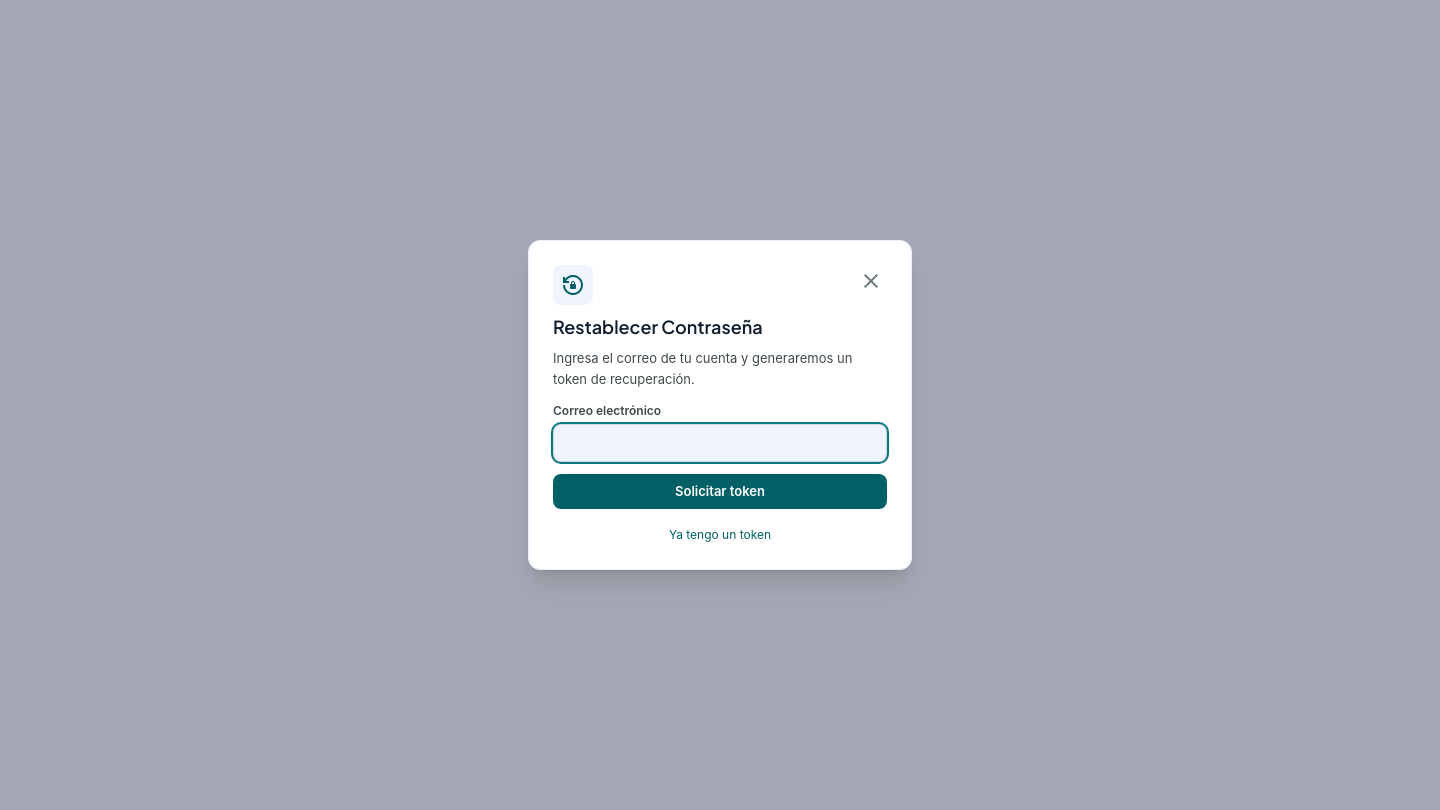
Test: PasswordRecoveryModal (HU-003) › muestra el error del backend cuando el token no es válido
The image size is (1440, 810).
Step 1. Click the button "Ya tengo un token" → {"x": 720, "y": 535}, box [553,526,887,544]
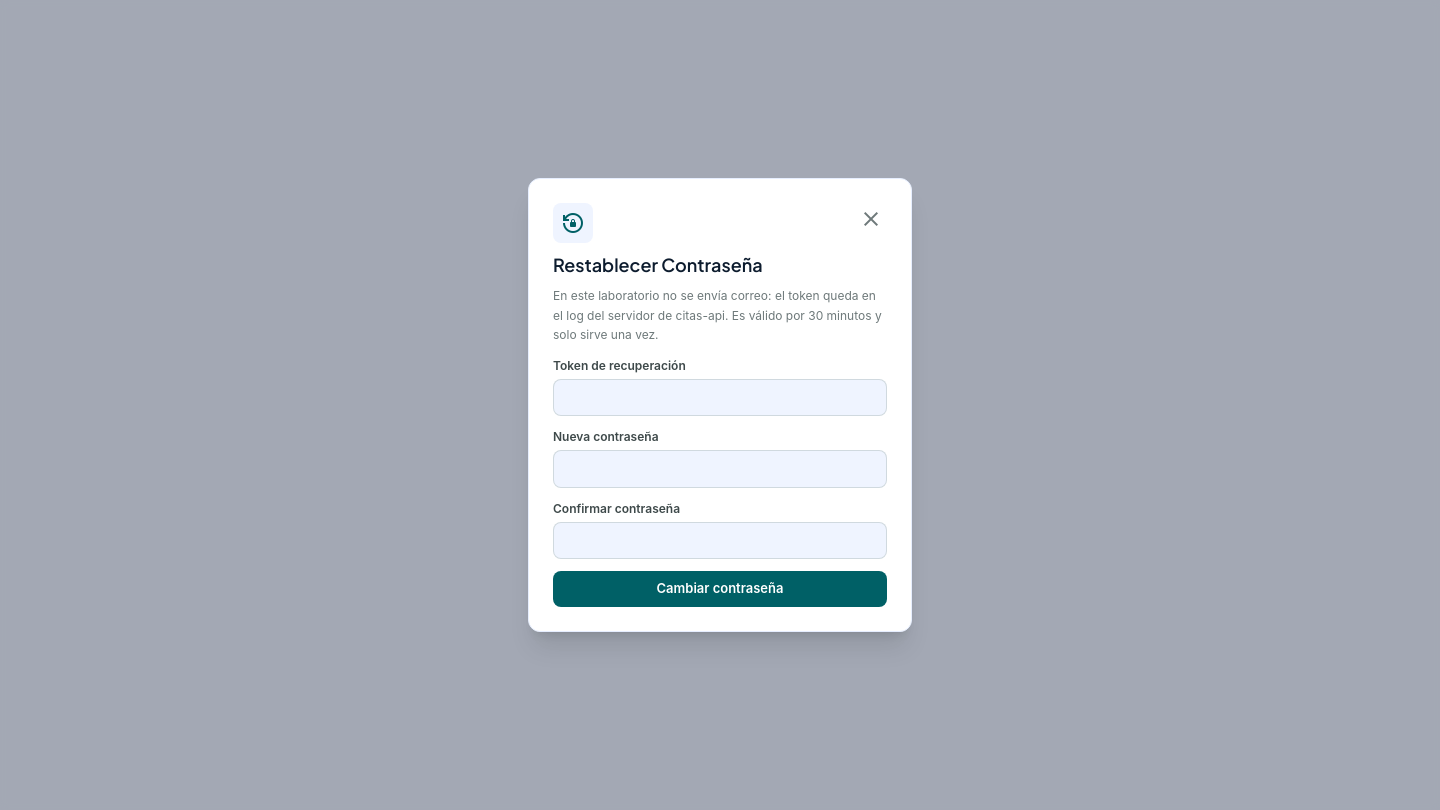
Step 2. Type "malo" into the field labelled "Token de recuperación" → {"x": 720, "y": 398}, box [553,379,887,416]
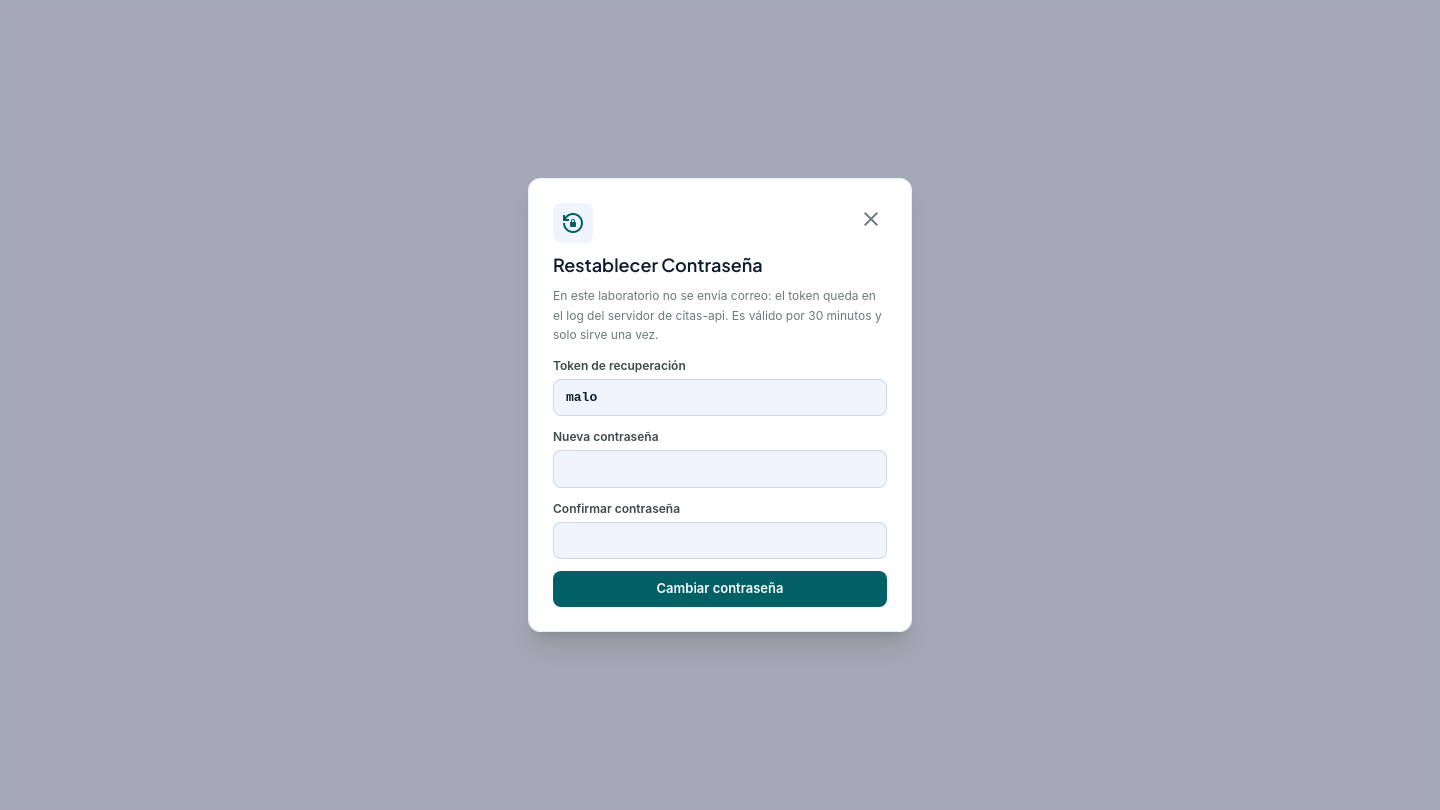
Step 3. Type "NuevaClave2026*" into the password field labelled "Nueva contraseña" → {"x": 720, "y": 469}, box [553,450,887,488]
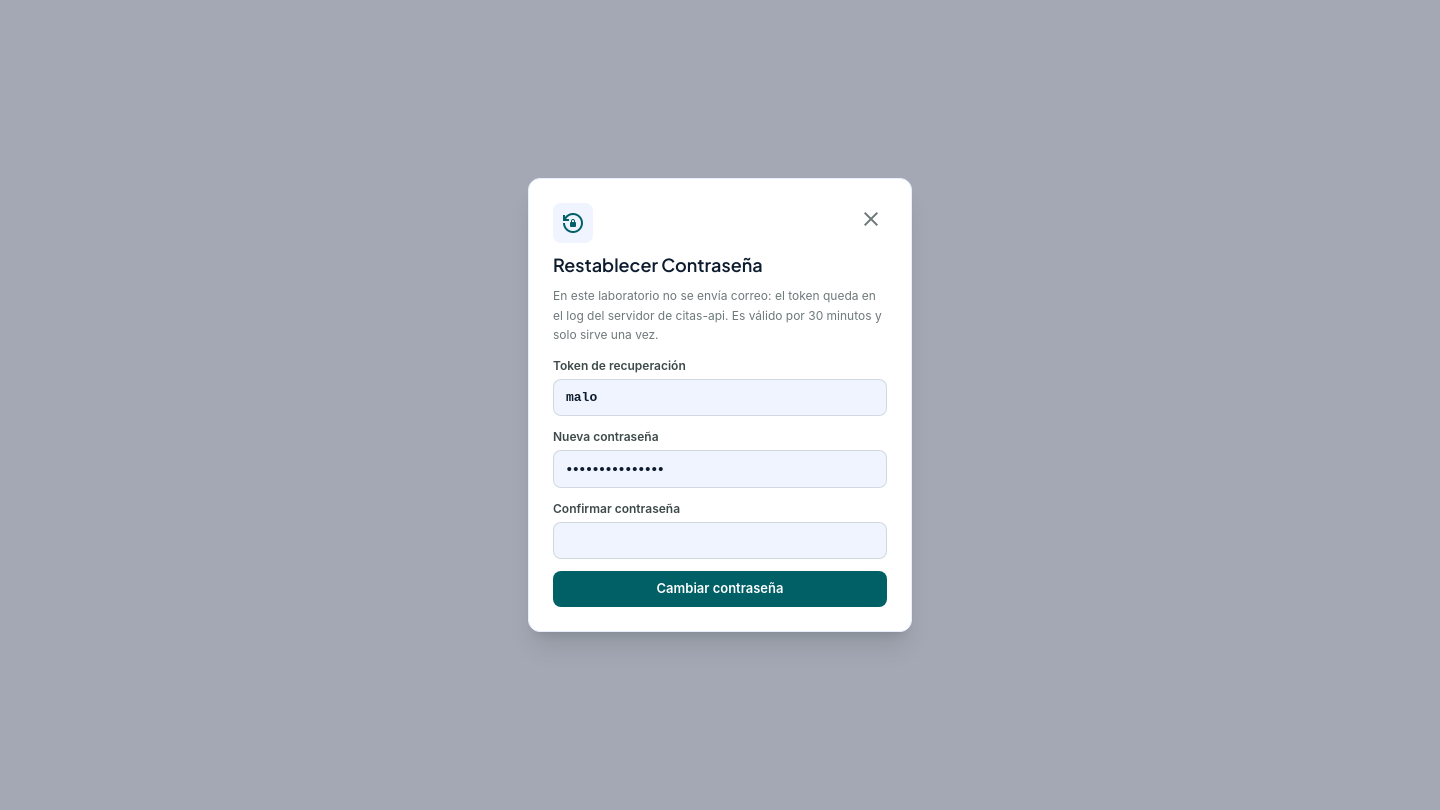
Step 4. Type "NuevaClave2026*" into the password field labelled "Confirmar contraseña" → {"x": 720, "y": 541}, box [553,522,887,559]
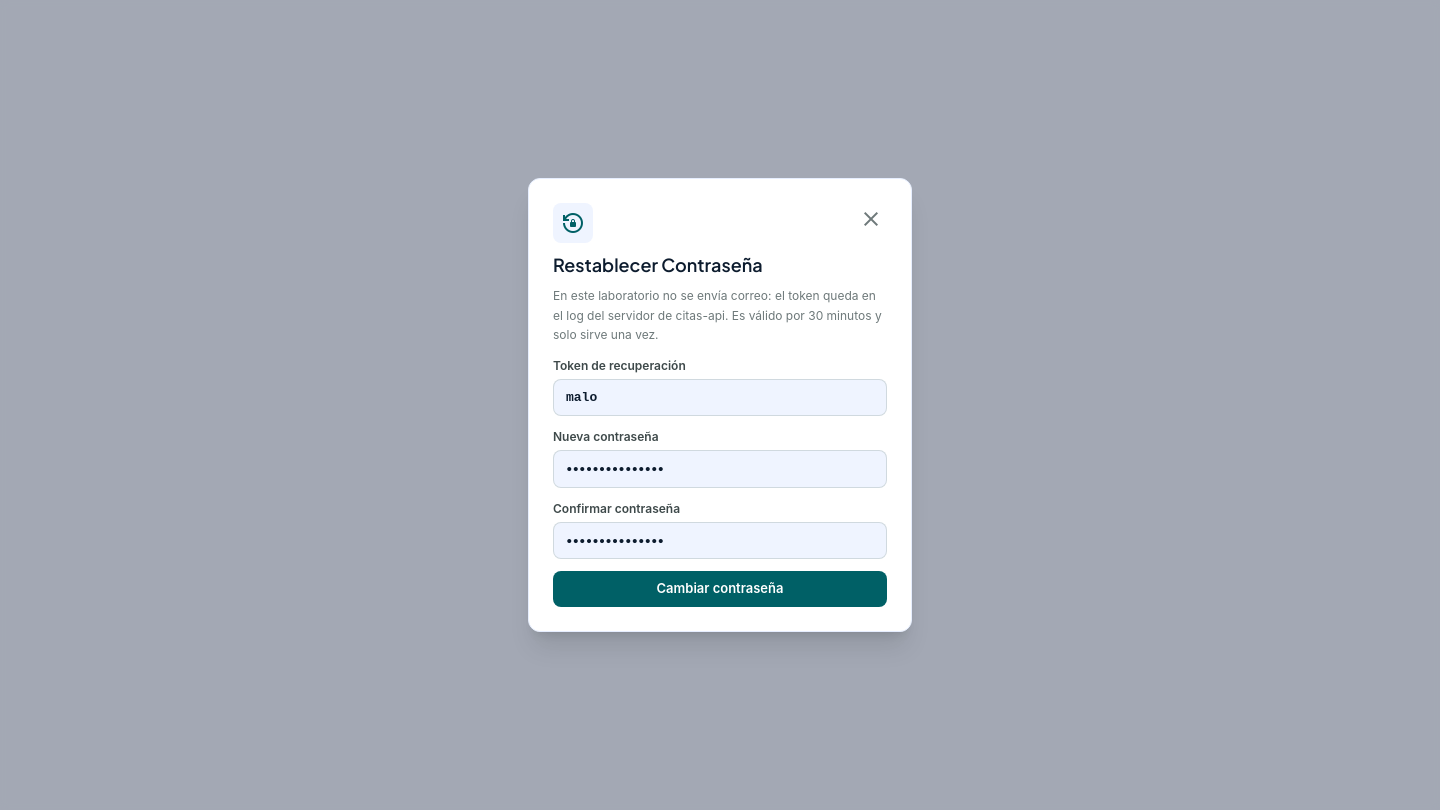
Step 5. Click the button "Cambiar contraseña" → {"x": 720, "y": 589}, box [553,571,887,607]
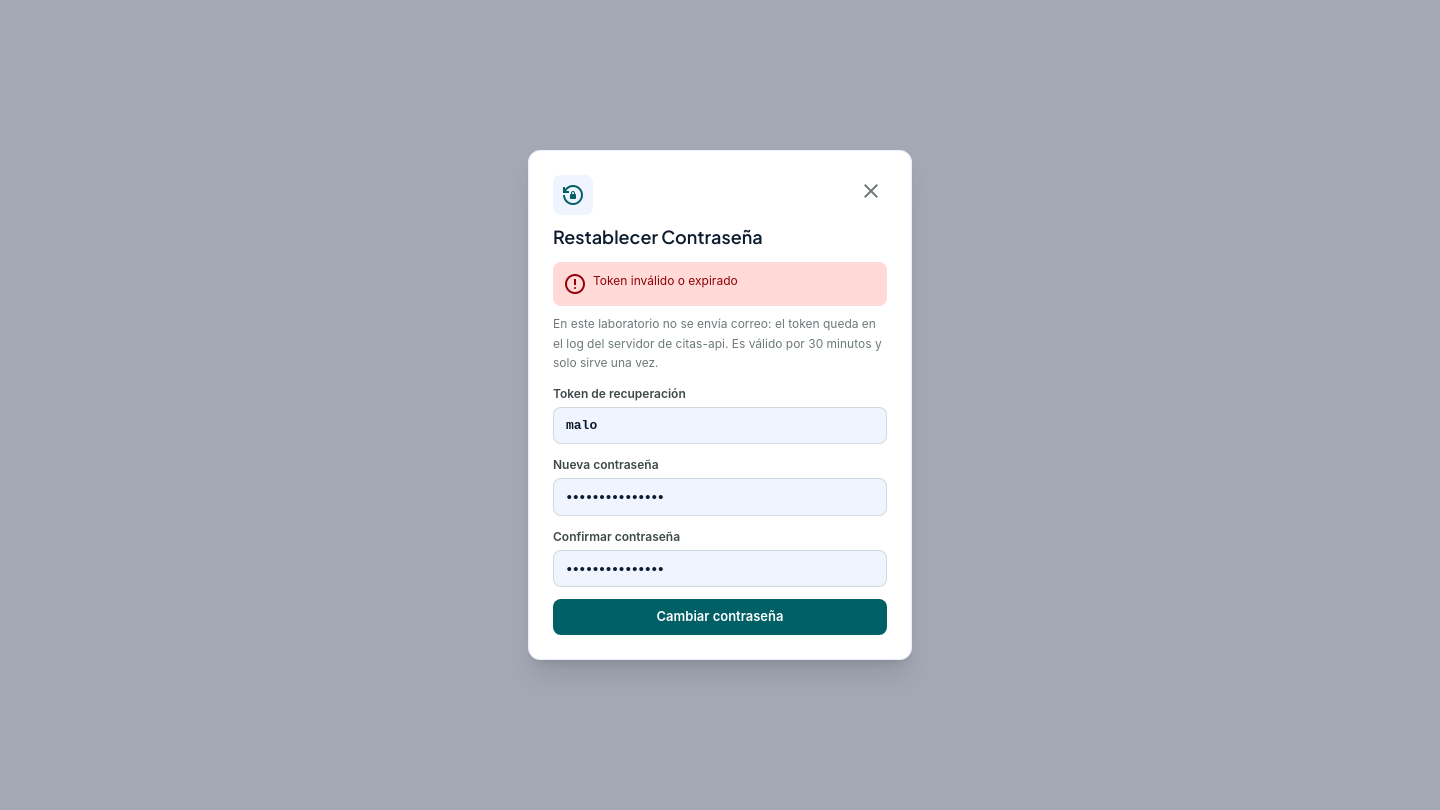
Expected: the text "Token inválido o expirado" is shown, [593,272,738,296]
